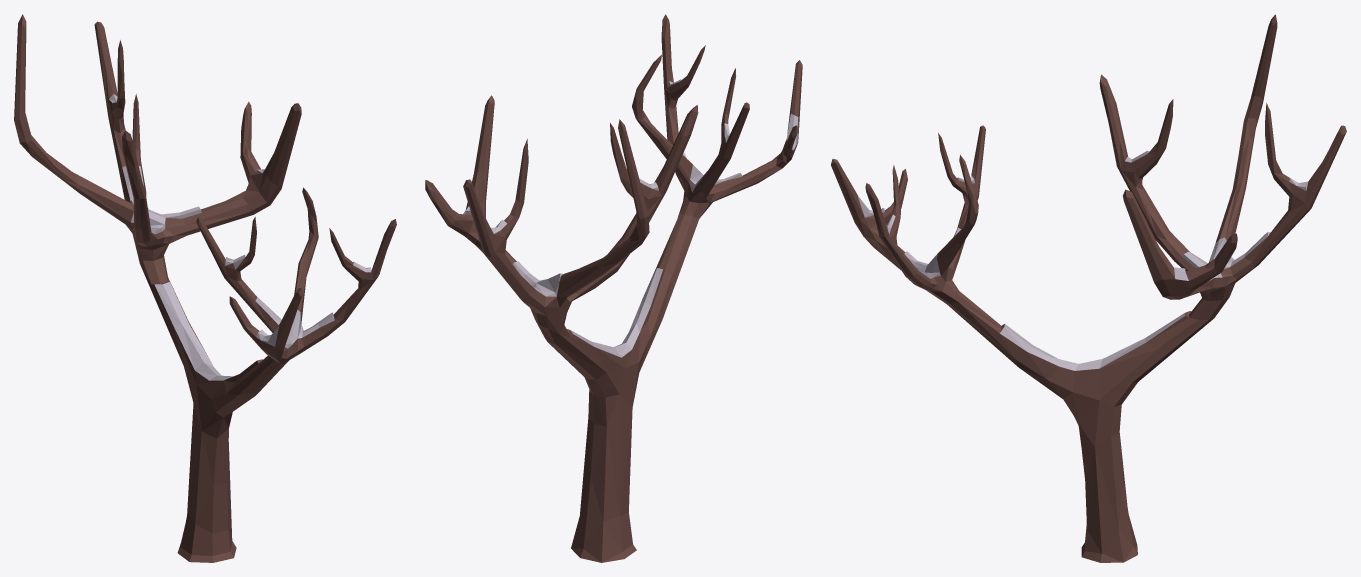
Rendered from CommonTree_Dead_Snow_1.lod1.glb.
3 renders of one model, left to right at view 1: azimuth 30°, elevation 25°; view 2: azimuth 150°, elevation 25°; view 3: azimuth 270°, elevation 25°, orthographic. The views are drawn at different scales.
Visible parts, largest first — view 1: CommonTree_Dead_Snow_1; view 2: CommonTree_Dead_Snow_1; view 3: CommonTree_Dead_Snow_1.
Boxes of the visible parts, x1,y1,x2,y2 form: CommonTree_Dead_Snow_1: [14, 14, 396, 562]; CommonTree_Dead_Snow_1: [425, 14, 802, 562]; CommonTree_Dead_Snow_1: [831, 14, 1346, 562].
Bounding box in the file's own units: 1.04 × 2.22 × 2.12.
